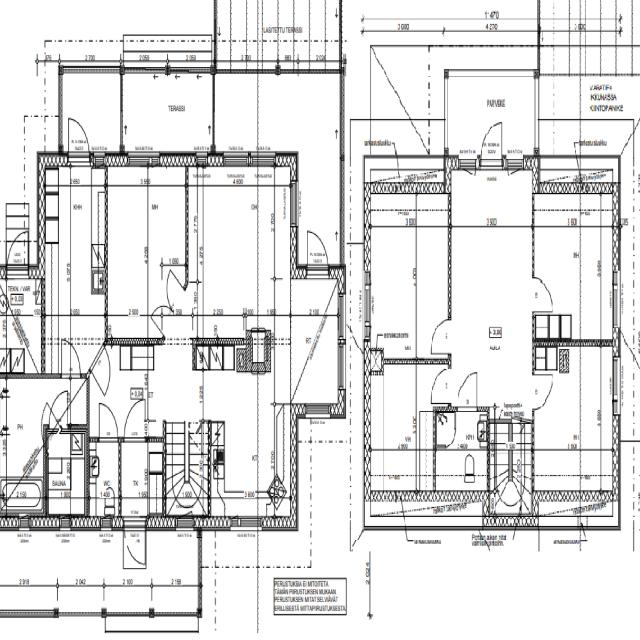door: (90, 344, 118, 397), (306, 227, 328, 280), (150, 292, 175, 338), (7, 225, 28, 279), (160, 269, 185, 314), (124, 517, 145, 570), (481, 116, 501, 169), (69, 114, 89, 166), (124, 396, 146, 442), (49, 389, 68, 434), (457, 371, 477, 411), (99, 402, 118, 442), (532, 276, 553, 312), (532, 374, 553, 410), (62, 339, 80, 379), (513, 384, 531, 424), (430, 369, 451, 403), (430, 321, 450, 354)
